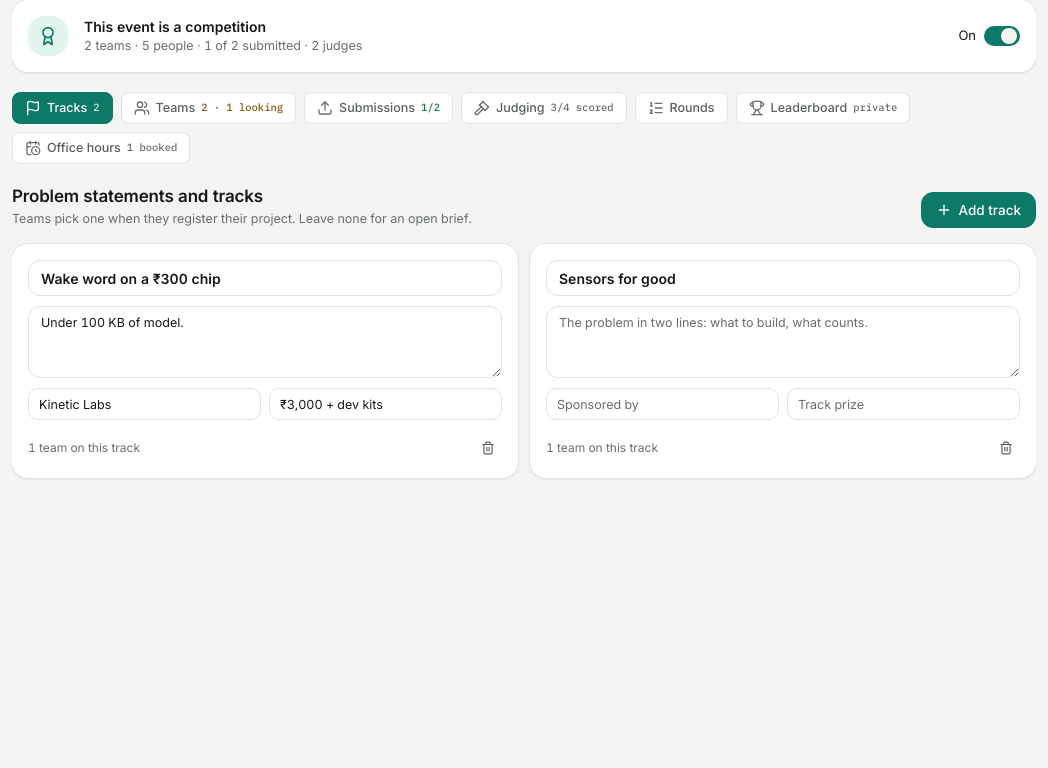
Test case: the competition tab › names the teams tied at the cut and lets the organiser move one by hand
Click the button "Rounds". click: (681, 108)
box: left=635, top=92, right=728, bottom=124
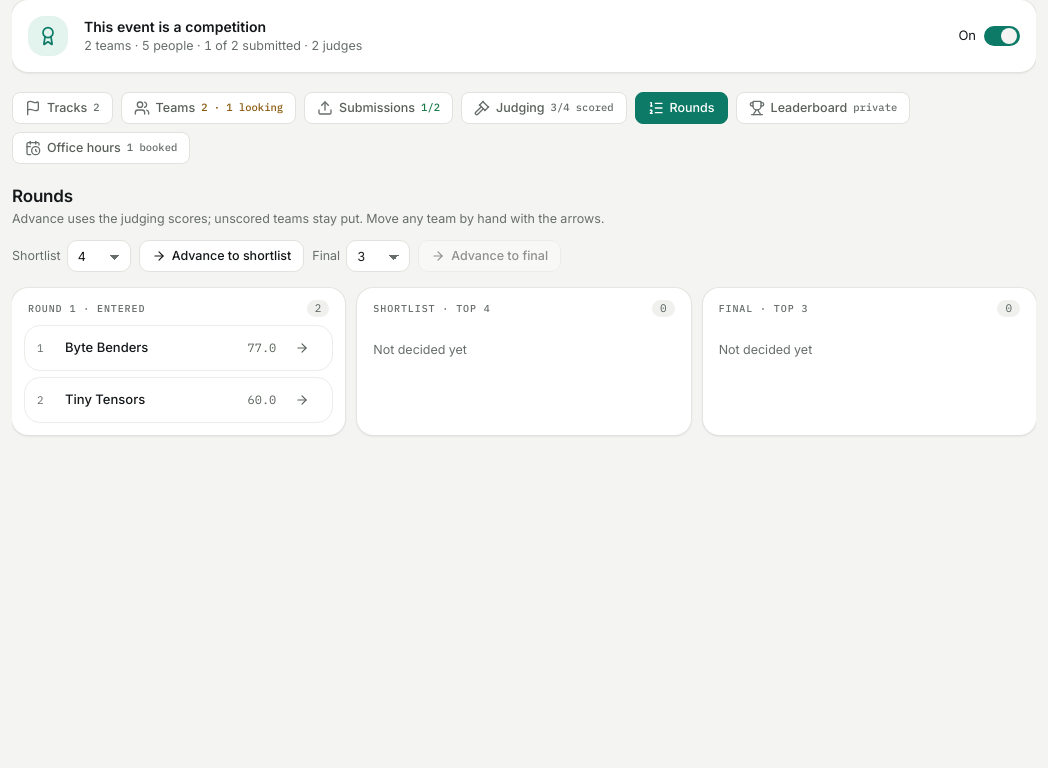
Click the button "Advance to shortlist". click: (221, 256)
box: left=139, top=240, right=304, bottom=272
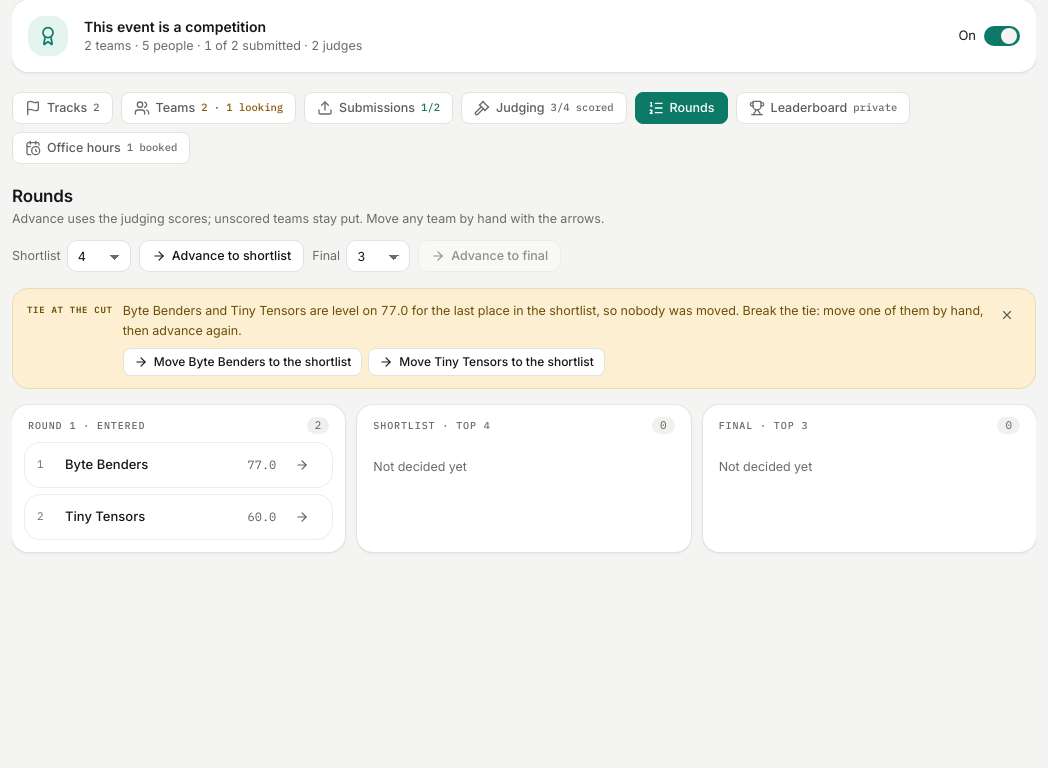
Now the text "Byte Benders and Tiny Tensors are level on 77.0 for the last place in the shortlist" is shown, box left=123, top=301, right=985, bottom=340
Now the text "Tie at the cut" is shown, box left=27, top=301, right=113, bottom=317
Click the button "Move Tiny Tensors to the shortlist". click: (487, 362)
box: left=368, top=348, right=605, bottom=376
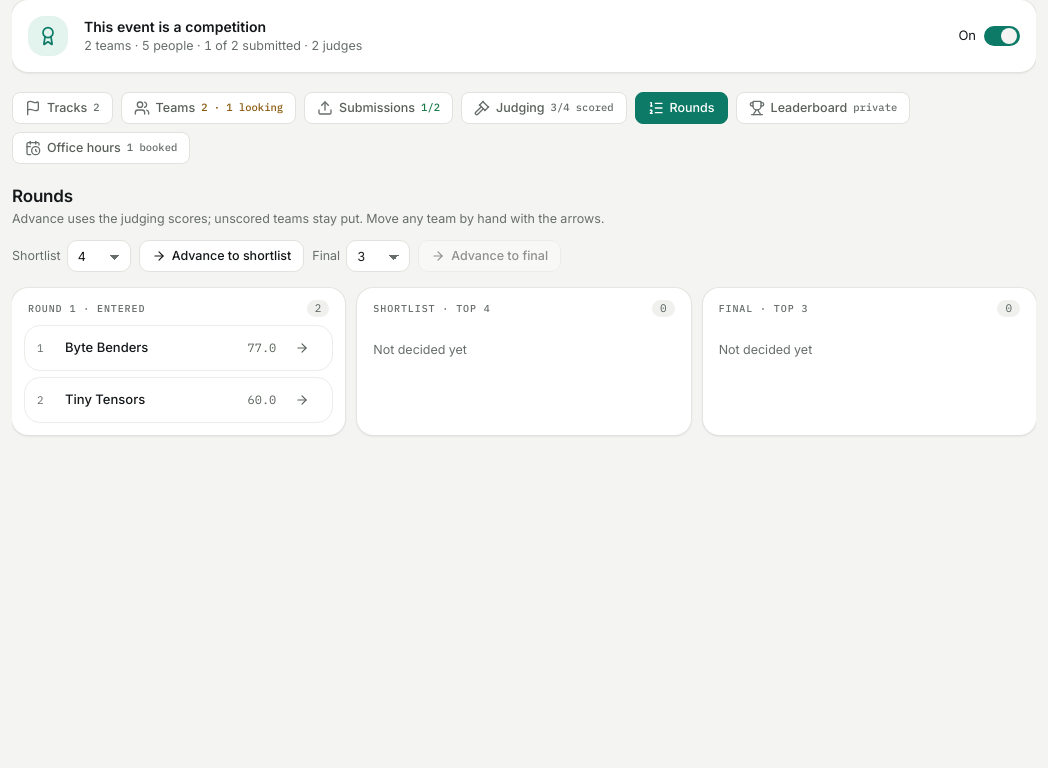
Now the text "Tie at the cut" is gone
